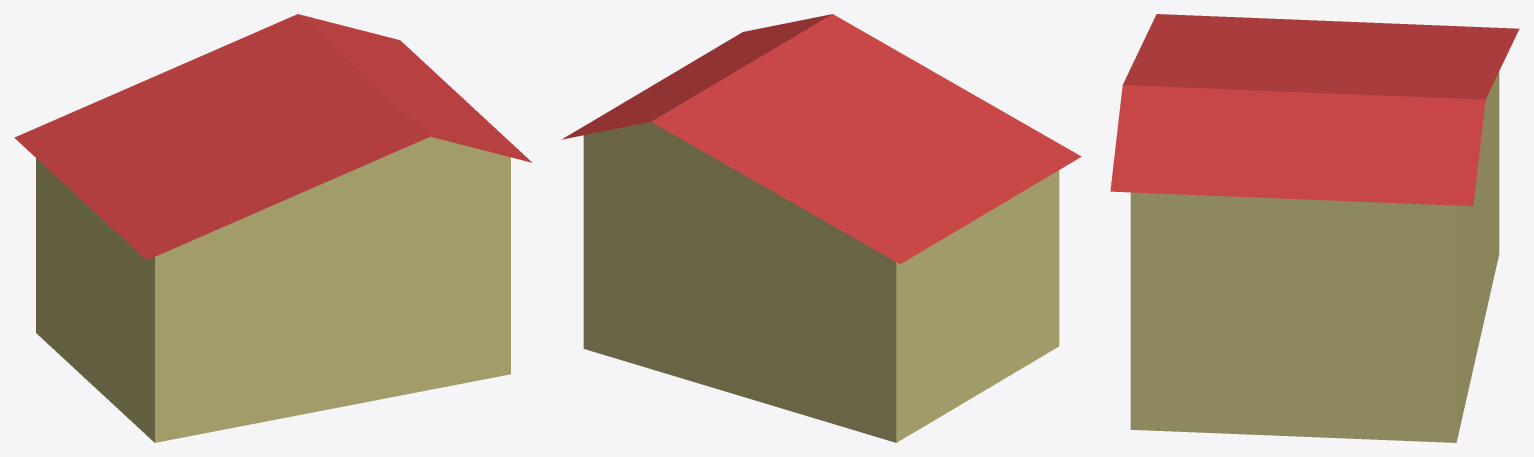
3 renders of one model, left to right at view 1: azimuth 30°, elevation 25°; view 2: azimuth 150°, elevation 25°; view 3: azimuth 270°, elevation 25°, orthographic. The views are drawn at different scales.
Size of the model in its own units: 13.83 by 10.94 by 8.78.
